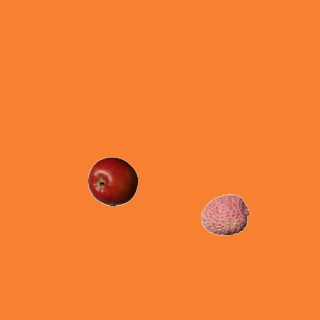Apple Braeburn: (87, 156, 137, 206)
Lychee: (200, 189, 250, 239)
